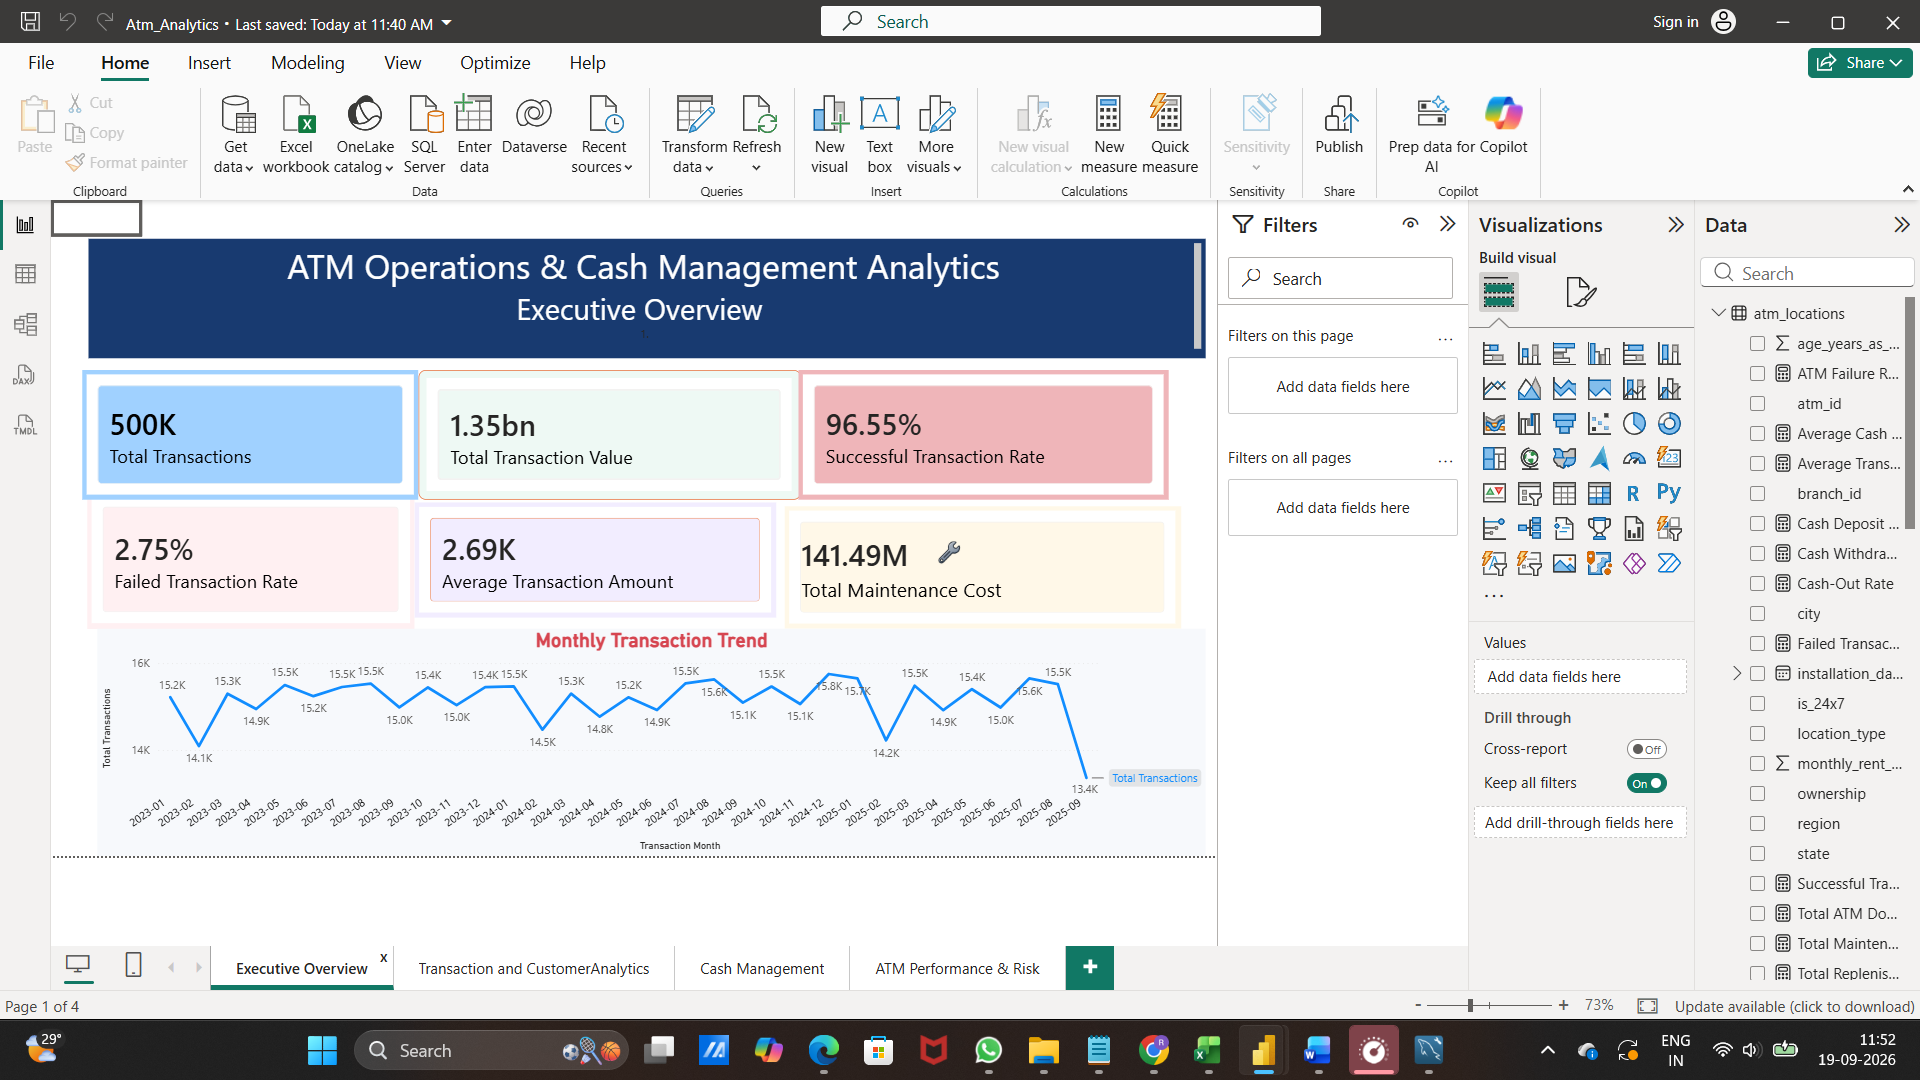

The dashboard page shown, as its layout file describes it:
{"tool":"powerbi","page":{"name":"Executive Overview","canvas":[1280,720],"ordinal":0},"visuals":[{"type":"cardVisual","fields":{"Data":["atm_locations.Total Transaction Value"]},"box":[403.4,186.6,419.9,142.7],"z":0},{"type":"cardVisual","fields":{"Data":["atm_locations.Successful Transaction Rate"]},"box":[820.6,186.6,406.2,142.7],"z":1000},{"type":"cardVisual","fields":{"Data":["atm_locations.Failed Transaction Rate"]},"box":[39.8,319.7,359.5,150.9],"z":2000},{"type":"cardVisual","fields":{"Data":["atm_locations.Average Transaction Amount"]},"box":[399.3,332.1,396.6,126.2],"z":3000},{"type":"cardVisual","fields":{"Data":["atm_locations.Total Maintenance Cost"]},"box":[805.5,336.2,435,134.5],"z":4000},{"type":"lineChart","title":"Monthly Transaction Trend","fields":{"Category":["transactions.Transaction Month"],"Y":["atm_locations.Total Transactions"]},"box":[50.8,470.7,1217.2,249.7],"z":5000},{"type":"textbox","box":[41.6,42.8,1226.5,130.8],"z":6000},{"type":"cardVisual","fields":{"Data":["atm_locations.Total Transactions"]},"box":[34.3,186.6,369.1,142.7],"z":7000},{"type":"actionButton","box":[0,0,100,40],"z":8000},{"type":"actionButton","box":[0,0,100,40],"z":9000},{"type":"actionButton","box":[0,0,100,40],"z":10000},{"type":"actionButton","box":[0,0,100,40],"z":11000},{"type":"image","box":[948.2,359.5,75.5,54.9],"z":12000}]}

Visuals, with their boxes on the page's 1280x720 design canvas (x1, y1, x2, y2). These are canvas units, not pixel positions in the 1920x1080 screenshot, which may show the page scaled, cropped or inside an application window:
cardVisual - atm_locations.Total Transaction Value: x1=403, y1=187, x2=823, y2=329
cardVisual - atm_locations.Successful Transaction Rate: x1=821, y1=187, x2=1227, y2=329
cardVisual - atm_locations.Failed Transaction Rate: x1=40, y1=320, x2=399, y2=471
cardVisual - atm_locations.Average Transaction Amount: x1=399, y1=332, x2=796, y2=458
cardVisual - atm_locations.Total Maintenance Cost: x1=806, y1=336, x2=1240, y2=471
"Monthly Transaction Trend" lineChart: x1=51, y1=471, x2=1268, y2=720
textbox: x1=42, y1=43, x2=1268, y2=174
cardVisual - atm_locations.Total Transactions: x1=34, y1=187, x2=403, y2=329
actionButton: x1=0, y1=0, x2=100, y2=40
actionButton: x1=0, y1=0, x2=100, y2=40
actionButton: x1=0, y1=0, x2=100, y2=40
actionButton: x1=0, y1=0, x2=100, y2=40
image: x1=948, y1=360, x2=1024, y2=414
